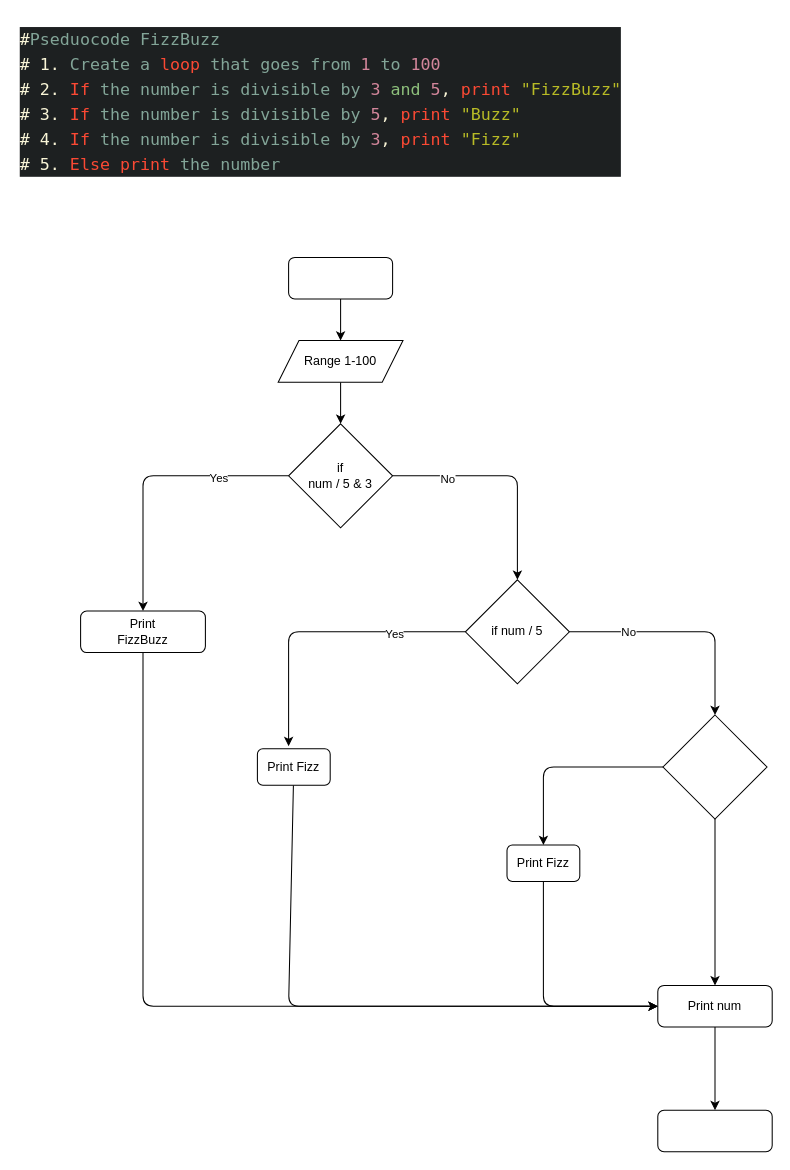
Image size: 790x1170. Some labels were removed from this diagram. Each missing label, with the centre of its shape:
"if num / 3" belongs at (x=714, y=766).
"Start" belongs at (x=340, y=277).
"Stop" belongs at (x=714, y=1130).
